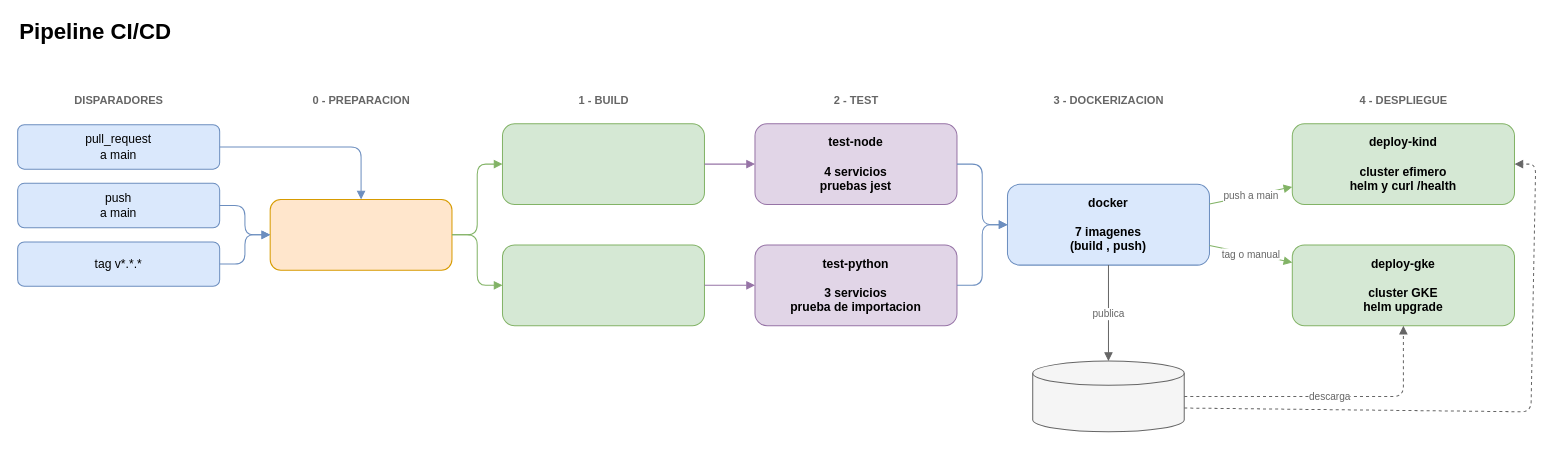
Image size: 1561x449. Some labels were removed from this diagram. The box of each missing label's shape, as (x1, y1, x2, y2) in pixels:
build-node 4 servicios (gateway, auth, ordenes, productos) npm run build: (501, 123, 704, 205)
build-python 3 servicios compileall: (501, 244, 704, 326)
GHCR: (1032, 360, 1184, 432)
preparacion etiqueta unica: (269, 198, 452, 270)
